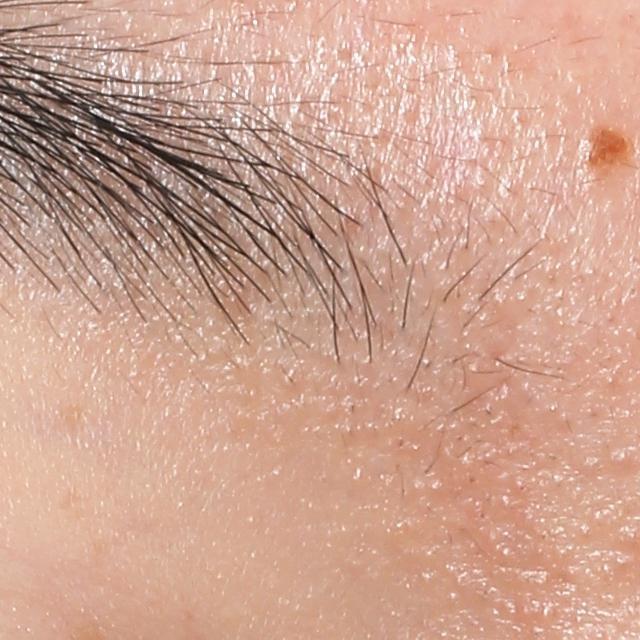comedo: (604, 446, 629, 471)
nevus: (565, 121, 633, 176)
